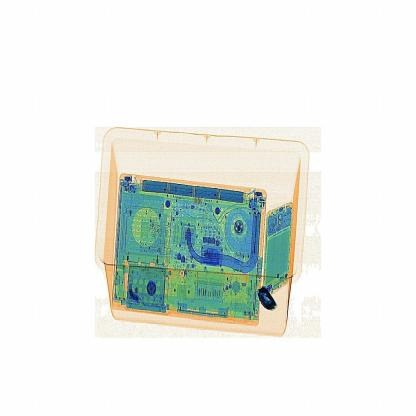scissors: (254, 280, 291, 318)
